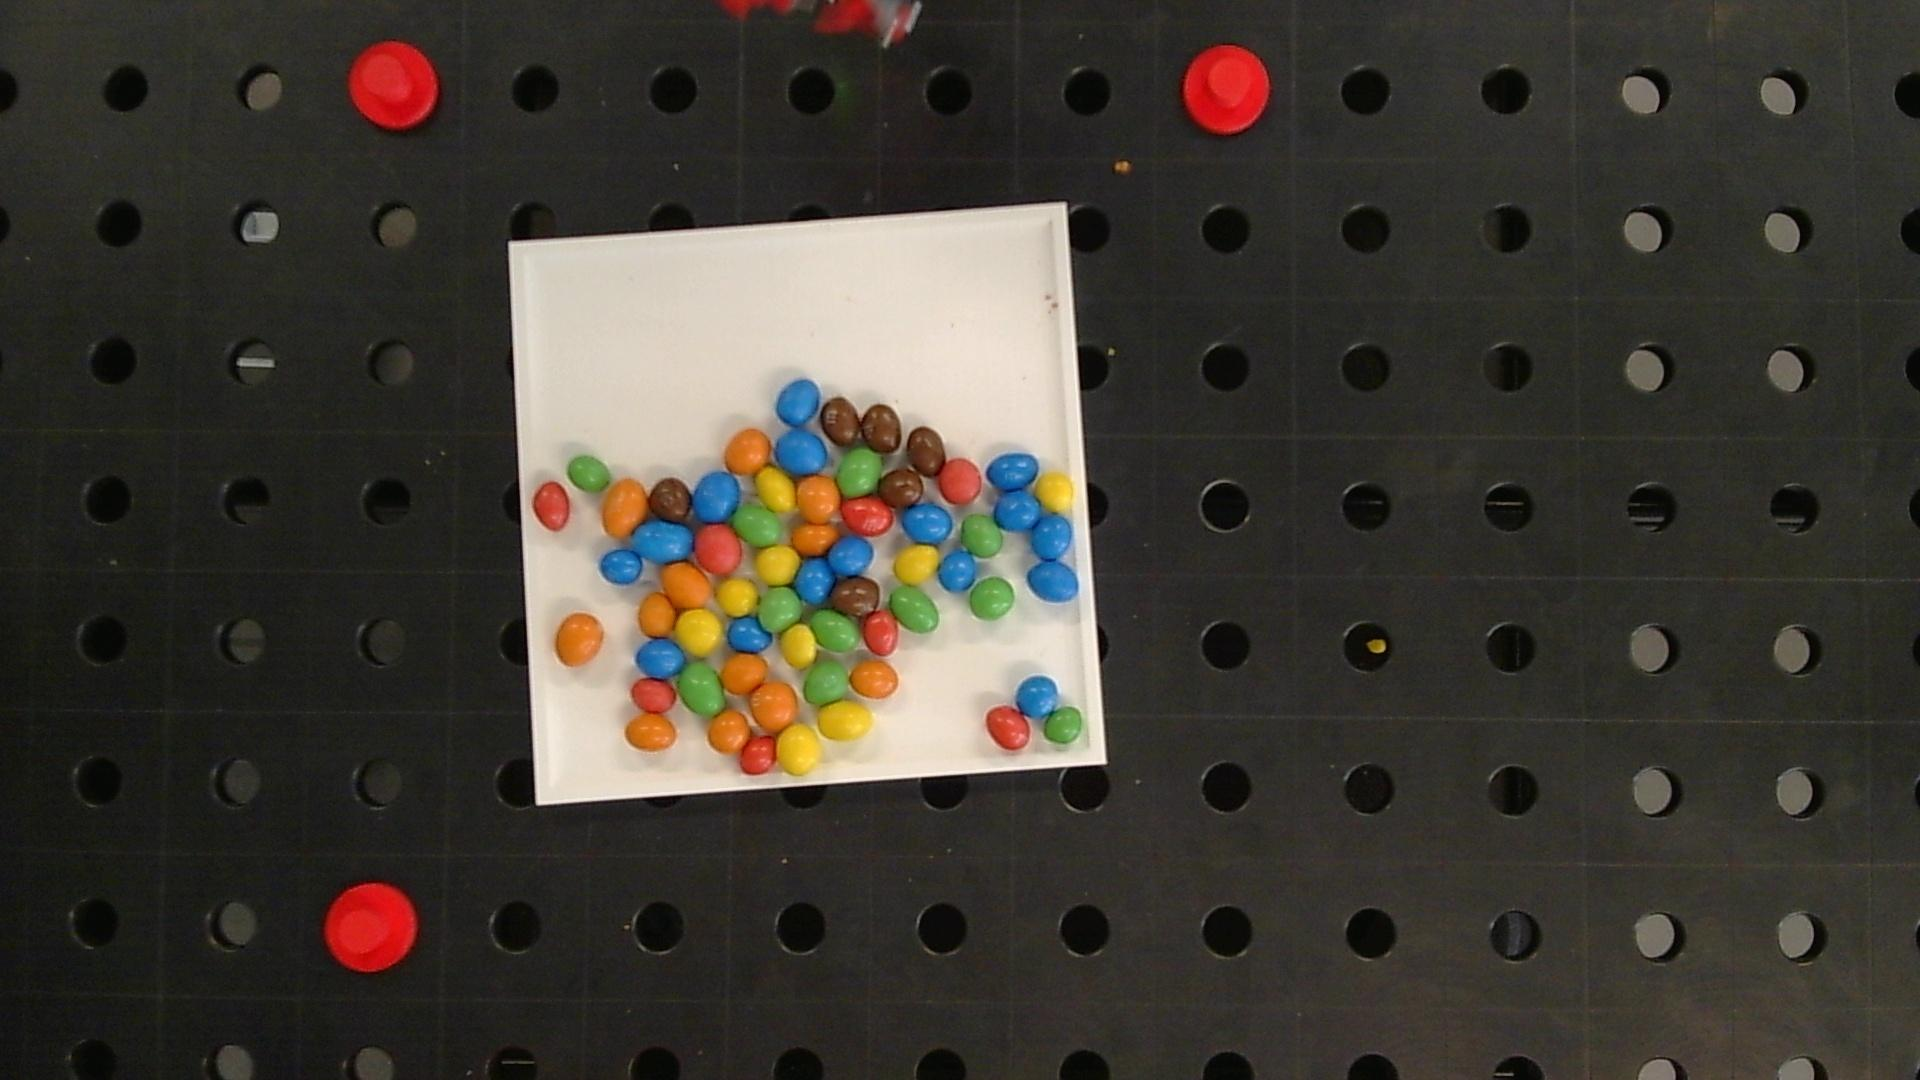blue: (632, 520, 694, 562), (692, 472, 741, 521), (777, 430, 827, 473), (1027, 560, 1079, 603), (1031, 513, 1073, 560), (777, 380, 820, 425), (903, 504, 952, 543), (988, 452, 1039, 489), (637, 638, 684, 676), (1017, 675, 1059, 716), (994, 492, 1039, 530), (795, 558, 833, 603), (831, 535, 873, 575), (727, 616, 771, 651), (939, 550, 976, 591), (599, 550, 642, 584)
brown: (861, 404, 902, 452), (649, 477, 692, 521), (833, 578, 880, 617), (822, 397, 860, 444), (907, 426, 944, 475), (877, 469, 924, 506)
green: (679, 662, 724, 715), (890, 587, 939, 633), (837, 450, 882, 495), (969, 576, 1015, 620), (733, 504, 782, 545), (804, 661, 849, 704), (811, 611, 858, 651), (760, 588, 803, 630), (961, 514, 1004, 558), (1043, 707, 1085, 745), (567, 455, 612, 491)
orange: (603, 479, 647, 538), (555, 612, 604, 666), (750, 682, 798, 731), (795, 476, 841, 524), (662, 563, 712, 607), (725, 429, 771, 472), (624, 715, 676, 750), (849, 661, 899, 698), (708, 711, 750, 753), (721, 654, 766, 694), (638, 592, 674, 636), (793, 522, 837, 554)
red: (695, 525, 741, 572), (938, 458, 982, 504), (985, 705, 1031, 749), (841, 497, 894, 534), (533, 481, 570, 530), (864, 611, 898, 655), (632, 678, 676, 712), (740, 737, 777, 774)
yellow: (777, 724, 820, 774), (816, 702, 873, 740), (676, 611, 723, 654), (893, 545, 939, 584), (756, 468, 795, 510), (757, 546, 800, 584), (781, 625, 818, 667), (1036, 472, 1073, 512), (717, 578, 757, 615)
